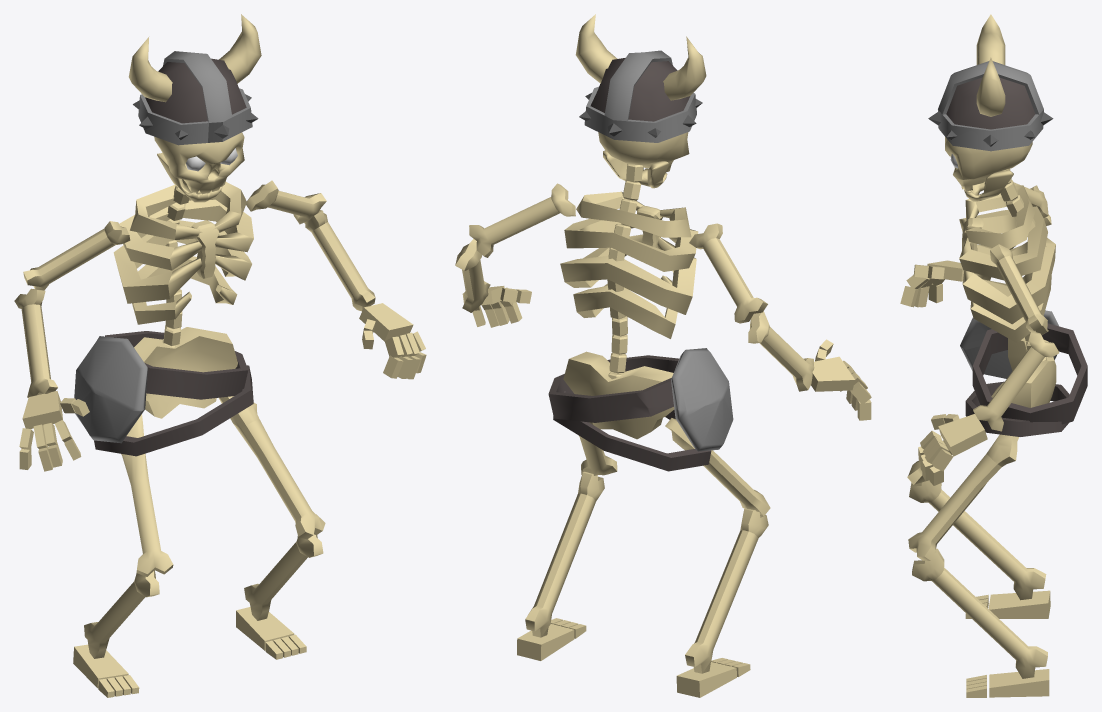
The model's file is skeleton_VIKING_explode.fbx.
3 renders of one model, left to right at view 1: azimuth 30°, elevation 25°; view 2: azimuth 150°, elevation 25°; view 3: azimuth 270°, elevation 25°, orthographic. The views are drawn at different scales.
Visible parts, largest first — view 1: chest, vikinghelmet1, polySurface6, pelvis, polySurface5, handL, polySurface2, tibiaR, handR, skull1, tibiaL, upperarmL (+8 smaller); view 2: chest, vikinghelmet1, polySurface5, pelvis, polySurface6, forearmR2, fibiaR, upperarmR, upperarmL, spine, handL, polySurface4 (+10 smaller); view 3: chest, vikinghelmet1, fibiaR, polySurface2, tibiaR, forearmR2, handR, forearmR, skull1, footR, handL, upperarmR (+9 smaller).
Part boxes in pixels (x1,y1,x2,y2): chest: (113, 182, 253, 324); vikinghelmet1: (128, 14, 261, 145); polySurface6: (79, 334, 180, 411); pelvis: (134, 327, 237, 418); polySurface5: (74, 366, 193, 456); handL: (19, 391, 89, 471); polySurface2: (173, 351, 253, 437); tibiaR: (219, 396, 325, 539); handR: (359, 303, 426, 379); skull1: (154, 132, 244, 194); tibiaL: (121, 414, 173, 576); upperarmL: (23, 221, 130, 290); chest: (560, 191, 698, 338); vikinghelmet1: (575, 14, 706, 142); polySurface5: (612, 386, 733, 471); pelvis: (563, 351, 674, 439); polySurface6: (631, 348, 729, 410); forearmR2: (685, 508, 768, 673); fibiaR: (525, 471, 604, 637); upperarmR: (469, 183, 575, 257); upperarmL: (689, 223, 767, 323); spine: (607, 164, 642, 379); handL: (811, 339, 871, 420); polySurface4: (572, 391, 635, 453); chest: (959, 185, 1055, 342); vikinghelmet1: (928, 14, 1053, 151); fibiaR: (912, 548, 1047, 678); polySurface2: (965, 345, 1082, 436); tibiaR: (908, 434, 1019, 560); forearmR2: (909, 480, 1046, 600); handR: (918, 414, 987, 485); forearmR: (973, 331, 1059, 431); skull1: (945, 137, 1032, 191); footR: (966, 669, 1049, 697); handL: (900, 260, 977, 307); upperarmR: (990, 244, 1048, 334).
Bounding box in the file's own units: 119 × 179 × 49.27.
